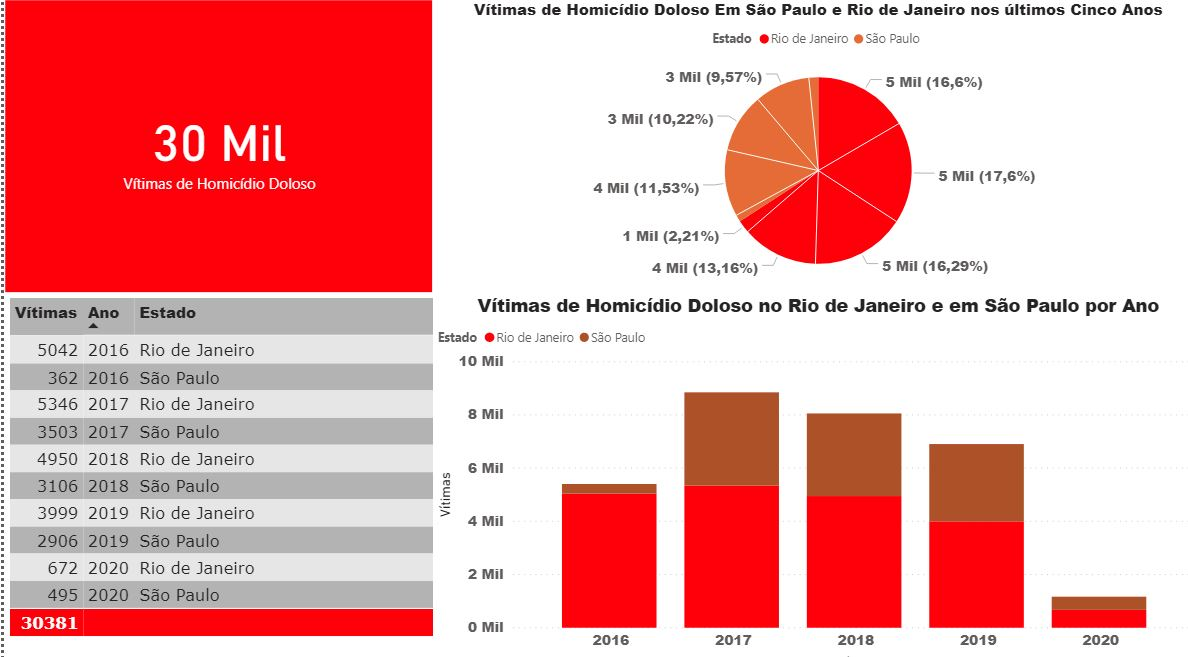

The dashboard page shown, as its layout file describes it:
{"tool":"powerbi","page":{"name":"Página 5","canvas":[1280,720],"ordinal":0},"visuals":[{"type":"card","fields":{"Values":["Sum(Homiciodios_Rj_SP.numero_Vítimas)"]},"box":[0,0,458.2,314.3],"z":0},{"type":"tableEx","fields":{"Values":["Sum(Homiciodios_Rj_SP.numero_Vítimas)","Homiciodios_Rj_SP.Ano","Homiciodios_Rj_SP.UF"]},"box":[0,314.3,471.5,405.2],"z":1},{"type":"pieChart","title":"Vítimas de Homicídio Doloso Em São Paulo e Rio de Janeiro nos últimos Cinco Anos","fields":{"Category":["Homiciodios_Rj_SP.UF"],"Series":["Homiciodios_Rj_SP.Ano"],"Y":["Sum(Homiciodios_Rj_SP.numero_Vítimas)"]},"box":[458.2,0,821.8,314.3],"z":2},{"type":"lineStackedColumnComboChart","title":"Vítimas de Homicídio Doloso no Rio de Janeiro e em São Paulo por Ano","fields":{"Category":["Homiciodios_Rj_SP.Ano"],"Y":["Sum(Homiciodios_Rj_SP.numero_Vítimas)"],"Series":["Homiciodios_Rj_SP.UF"]},"box":[458.2,314.3,821.8,405.2],"z":3}]}

Visuals, with their boxes in screenshot pixels (x1, y1, x2, y2), scaled from the page's 1280x720 canvas onto the 1188x657 screenshot:
card - Sum(Homiciodios_Rj_SP.numero_Vítimas): detection(0, 0, 425, 287)
tableEx - Sum(Homiciodios_Rj_SP.numero_Vítimas) x Homiciodios_Rj_SP.Ano: detection(0, 287, 438, 656)
"Vítimas de Homicídio Doloso Em São Paulo e Rio de Janeiro nos últimos Cinco Anos" pieChart: detection(425, 0, 1187, 287)
"Vítimas de Homicídio Doloso no Rio de Janeiro e em São Paulo por Ano" lineStackedColumnComboChart: detection(425, 287, 1187, 656)
